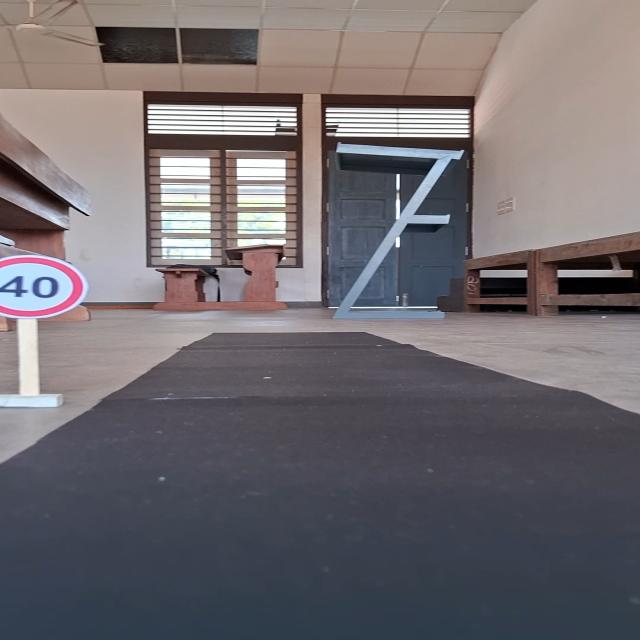Speed40: (0, 251, 89, 320)
